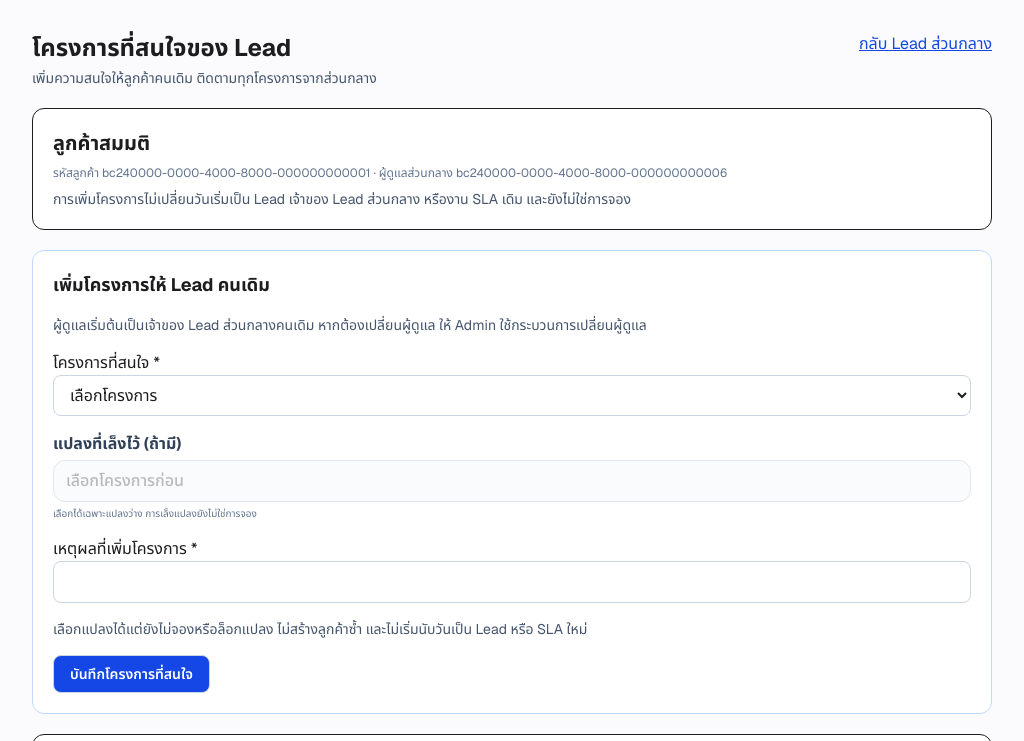
Test: existing Lead project interests workspace › saves only a new project, preserving customer revision and using no arbitrary owner or customer creation
Select "โครงการสมมติ" in the dropdown labelled "โครงการที่สนใจ *" at {"x": 512, "y": 396}, box x1=53 y1=375 x2=971 y2=416
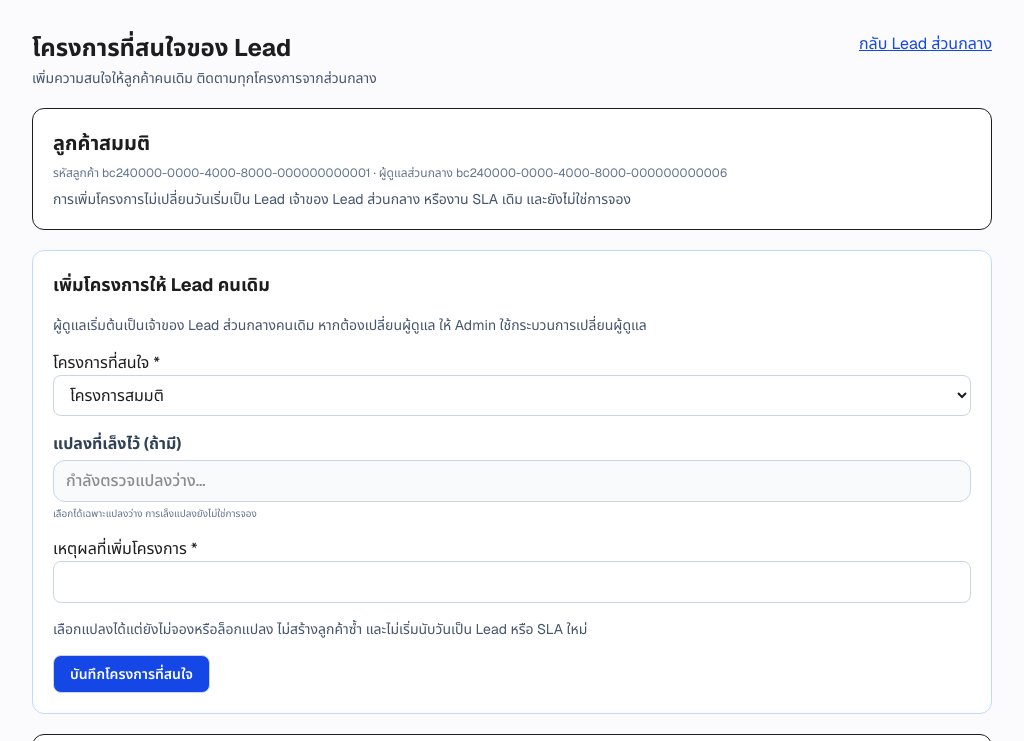
Type "ลูกค้าขอเข้าชมโครงการ" into the field labelled "เหตุผลที่เพิ่มโครงการ *".
click(512, 582); type("ลูกค้าขอเข้าชมโครงการ")  # box x1=53 y1=561 x2=971 y2=603
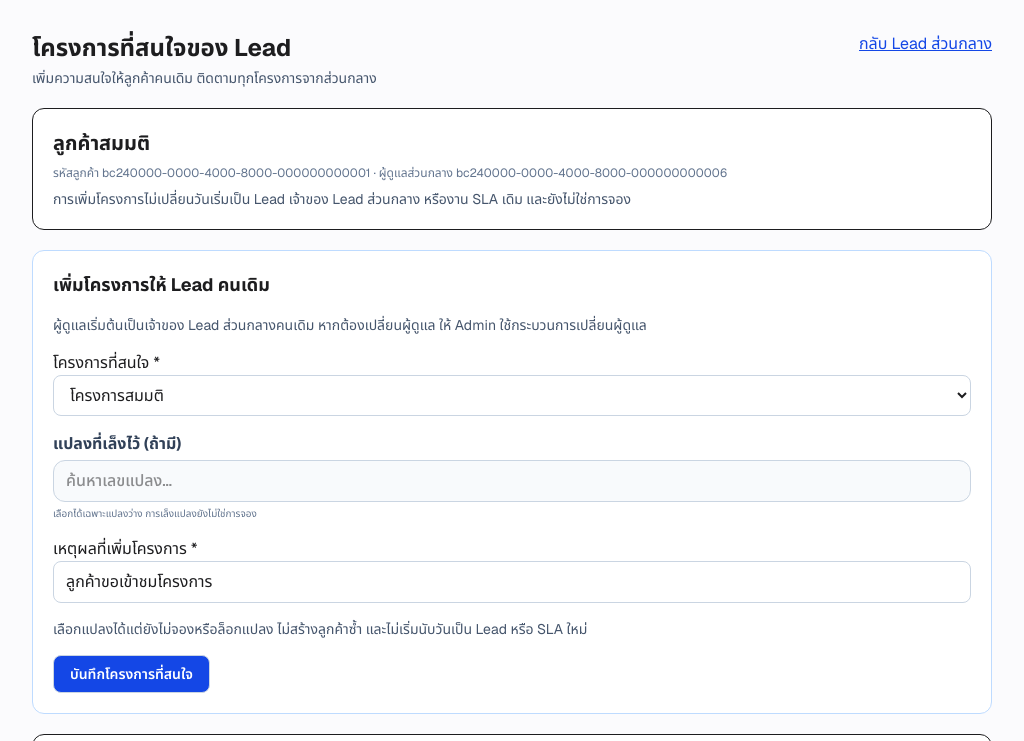
Submit the form named "เพิ่มโครงการที่สนใจ", box x1=32 y1=250 x2=992 y2=714
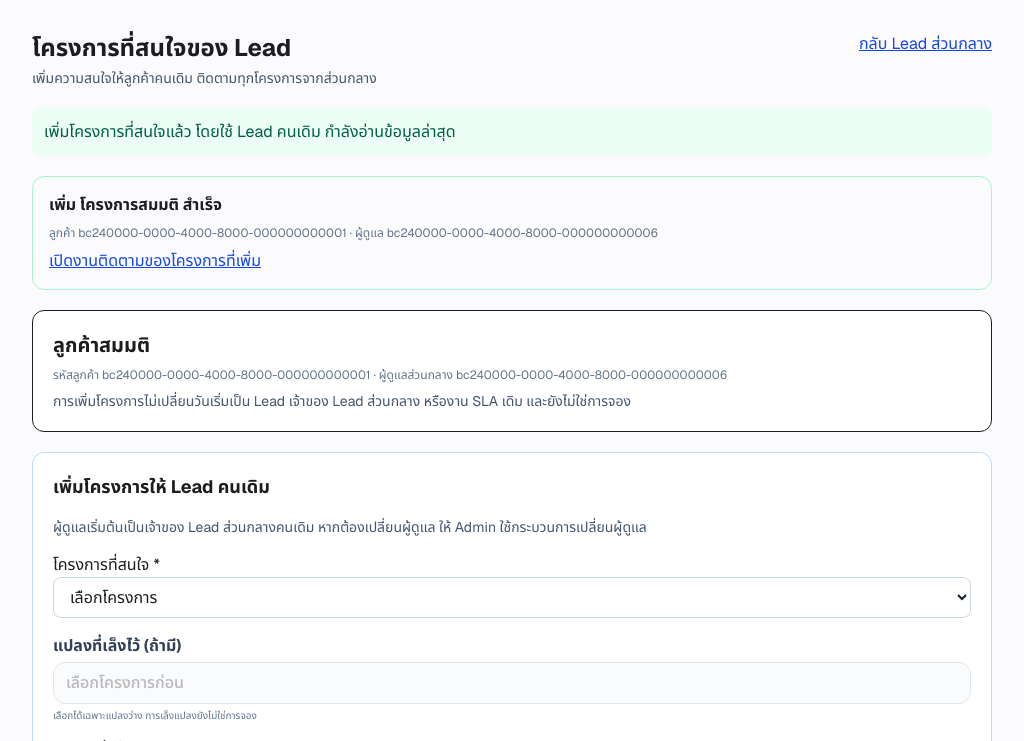
Check: the text "เพิ่มโครงการที่สนใจแล้ว โดยใช้ Lead คนเดิม กำลังอ่านข้อมูลล่าสุด" is shown, box x1=32 y1=108 x2=992 y2=156
